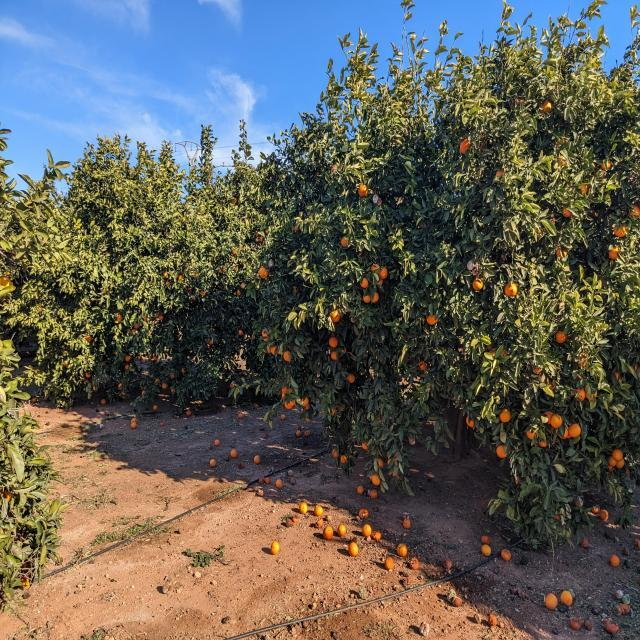Jeruk Sudah Matang: (0, 275, 13, 294), (568, 423, 582, 438), (503, 283, 518, 297), (613, 224, 628, 238), (499, 408, 511, 423), (526, 428, 538, 441), (556, 331, 568, 344), (472, 277, 484, 290), (558, 427, 570, 439), (496, 446, 508, 458), (370, 474, 382, 486), (551, 415, 562, 428), (629, 204, 640, 217), (540, 102, 551, 115), (460, 140, 470, 154), (556, 246, 567, 258), (608, 246, 618, 259), (330, 310, 340, 323), (602, 158, 612, 170), (426, 314, 438, 324), (360, 276, 370, 288), (575, 389, 584, 402), (612, 450, 623, 460), (418, 360, 428, 371), (358, 186, 368, 197), (579, 182, 587, 195), (562, 208, 572, 218), (329, 337, 339, 347), (599, 509, 608, 520), (544, 412, 552, 424), (558, 154, 566, 166), (380, 267, 388, 279), (616, 459, 626, 468), (362, 294, 372, 303), (466, 417, 474, 427), (330, 350, 338, 360), (346, 373, 354, 383), (258, 266, 266, 276), (284, 351, 292, 361), (302, 396, 310, 406), (609, 456, 616, 466), (496, 170, 506, 177), (370, 264, 380, 271), (372, 293, 379, 303), (342, 236, 348, 247), (540, 439, 548, 447), (260, 270, 268, 278), (284, 401, 292, 409), (266, 344, 272, 354), (271, 346, 277, 356), (288, 399, 296, 406), (332, 449, 338, 458), (378, 457, 383, 467), (85, 335, 92, 342), (362, 442, 368, 450), (292, 286, 298, 294), (282, 385, 288, 393), (116, 314, 122, 322), (263, 333, 268, 342), (282, 391, 288, 398), (534, 368, 542, 373), (341, 456, 346, 464), (262, 328, 267, 336), (236, 290, 242, 296), (304, 404, 310, 410), (280, 414, 286, 420), (238, 330, 243, 336), (158, 314, 163, 320), (135, 323, 140, 329), (162, 383, 168, 388), (277, 348, 281, 354), (170, 373, 174, 379), (378, 280, 383, 284), (200, 292, 205, 296), (178, 276, 183, 280), (125, 356, 130, 360), (209, 340, 213, 345), (141, 390, 145, 395), (86, 372, 90, 377), (101, 400, 106, 404), (164, 272, 168, 277), (182, 368, 186, 372), (94, 386, 98, 390), (154, 356, 158, 360), (125, 364, 128, 369), (119, 384, 122, 389)
